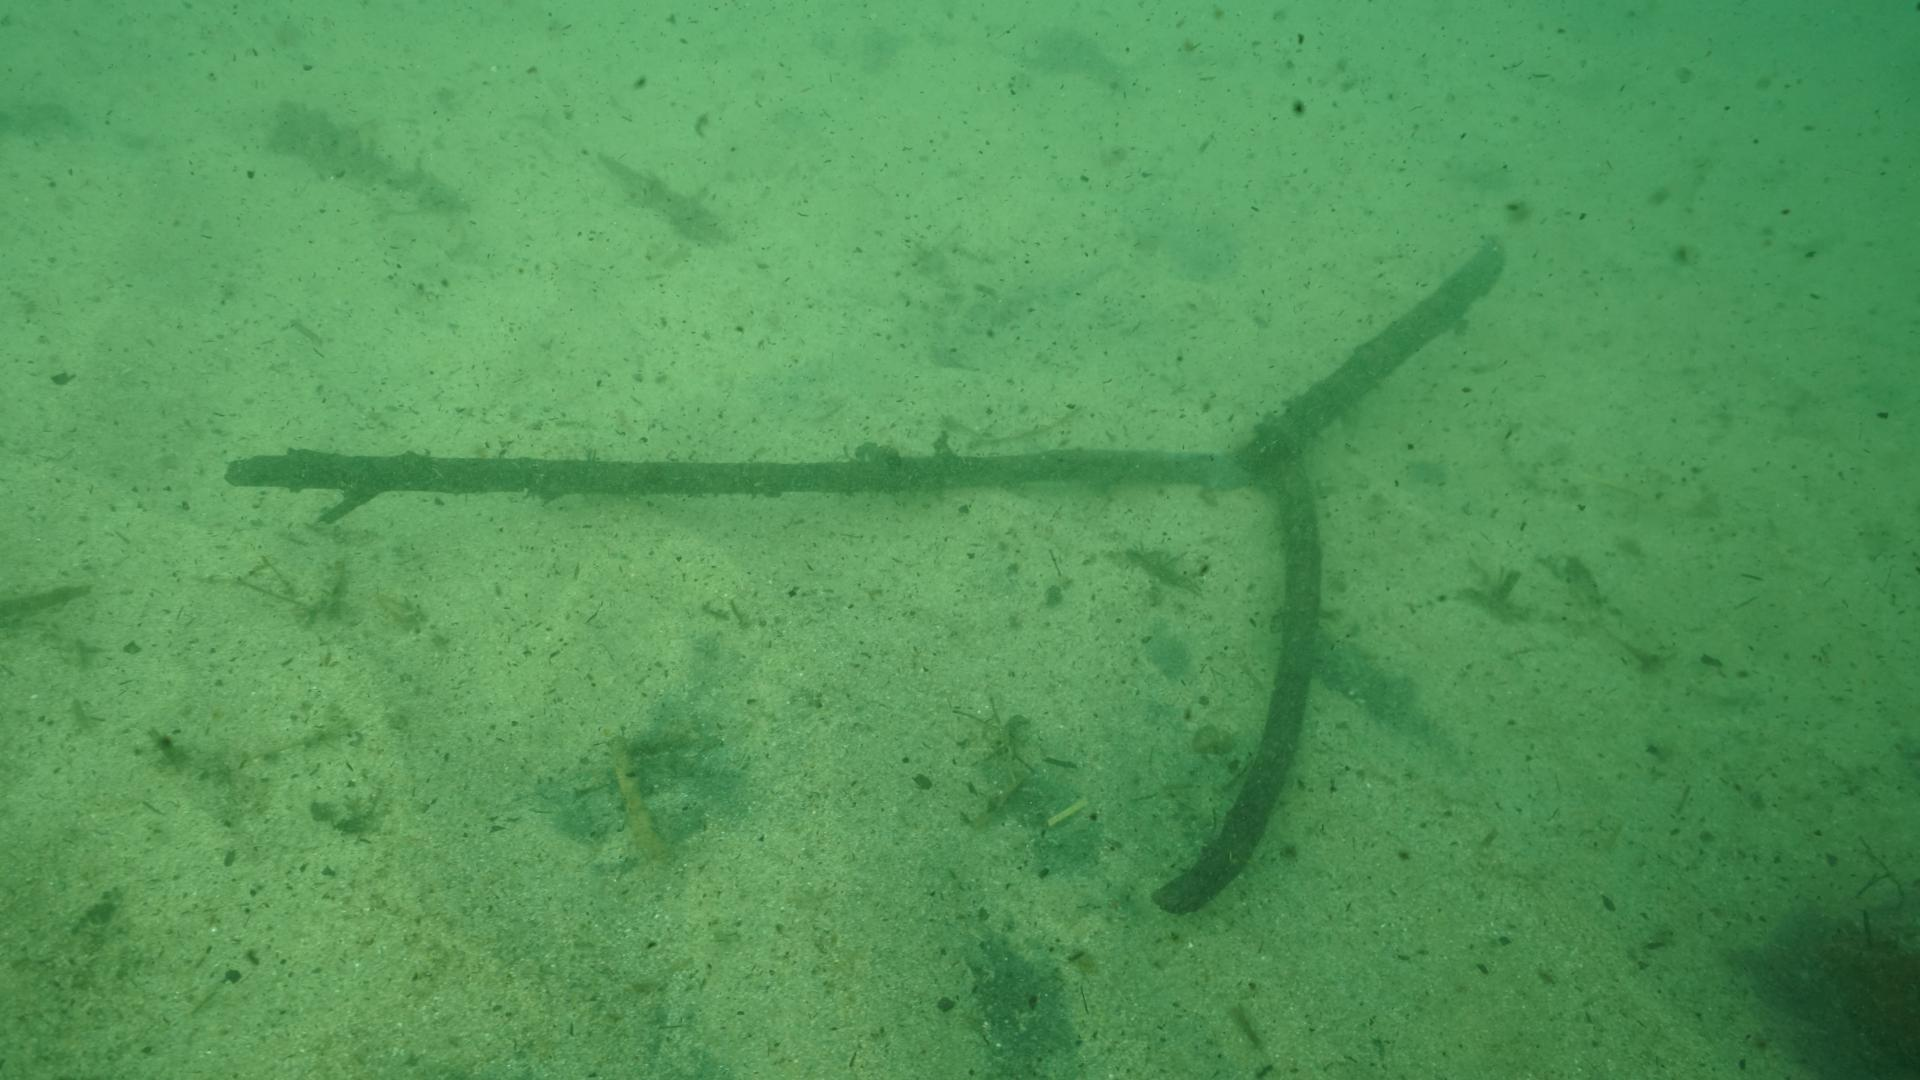wood: (223, 229, 1505, 918)
